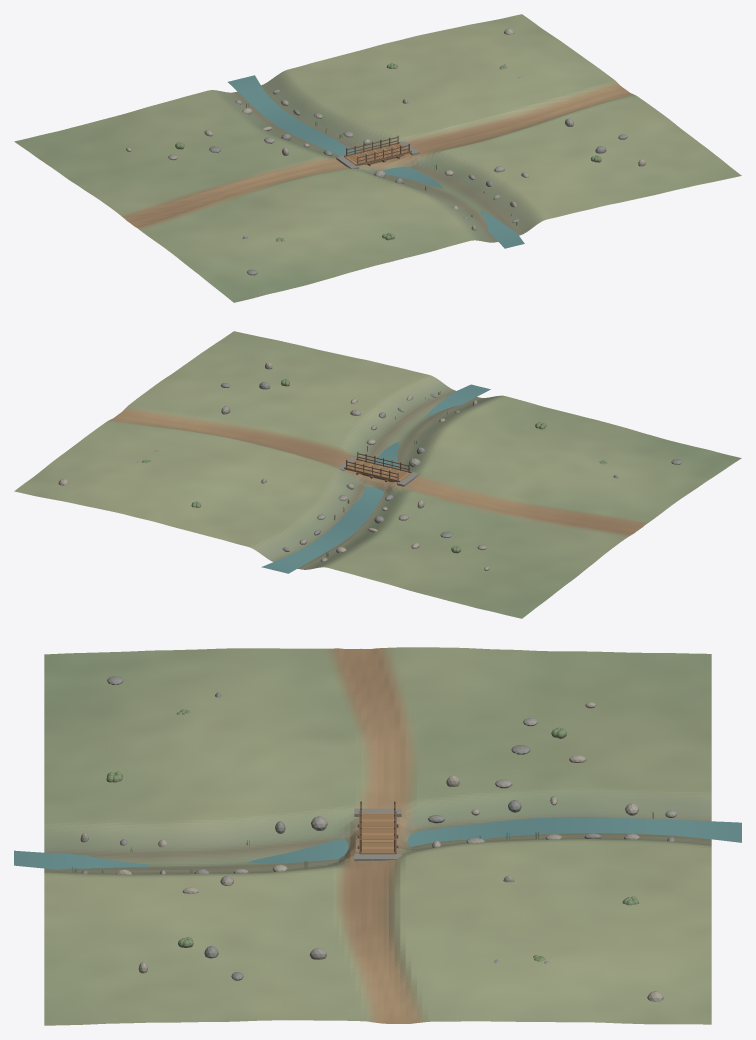
File: barrosan_highland_infrastructure_v0379.glb
3 views of the same model, one above another, from view 1: azimuth 30°, elevation 25°; view 2: azimuth 150°, elevation 25°; view 3: azimuth 270°, elevation 25° (orthographic). The views are drawn at different scales.
Parts seen in each view (by area): view 1: Terrain_Highland_Continuous, Water_Recessed_River; view 2: Terrain_Highland_Continuous, Water_Recessed_River; view 3: Terrain_Highland_Continuous, Water_Recessed_River.
Part boxes in pixels (x1,y1,x2,y2): Terrain_Highland_Continuous: (14, 14, 741, 302); Water_Recessed_River: (228, 75, 524, 248); Terrain_Highland_Continuous: (14, 331, 741, 618); Water_Recessed_River: (261, 384, 490, 573); Terrain_Highland_Continuous: (44, 647, 711, 1025); Water_Recessed_River: (14, 817, 741, 869).
Size of the model in its own units: 88 by 3.46 by 72.
